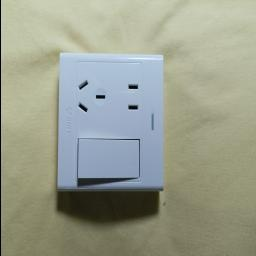outlet: (56, 39, 159, 201)
